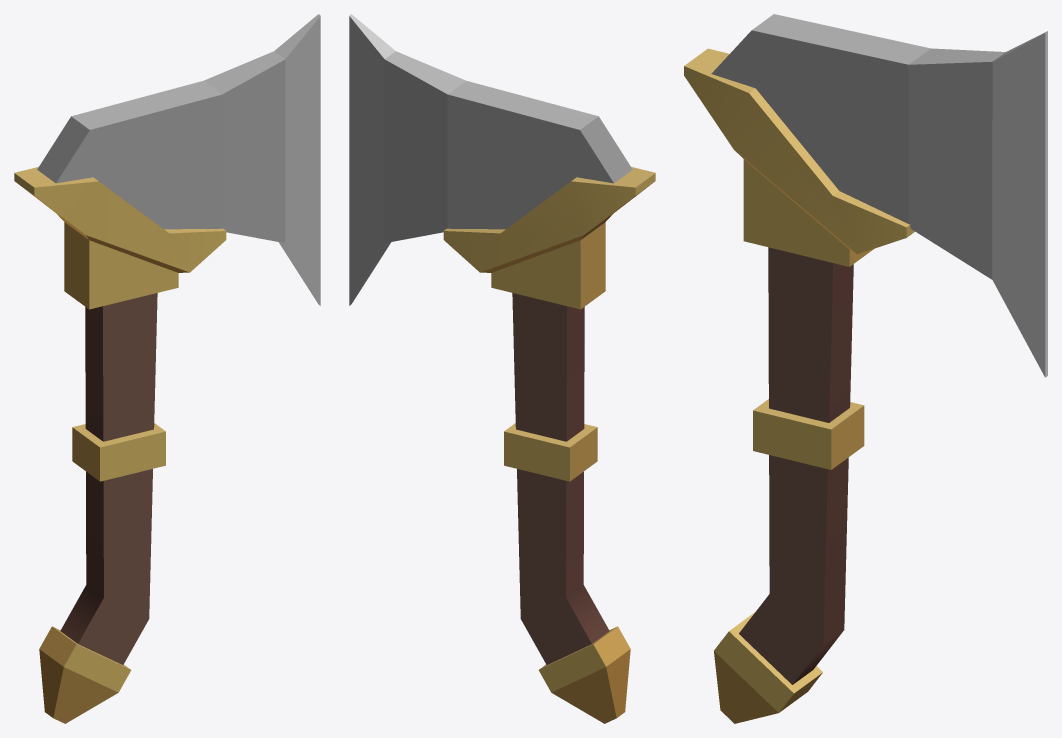
Rendered from SF_Wep_Elven_Axe_01.fbx.
3 views of the same model, side by side, from view 1: azimuth 30°, elevation 25°; view 2: azimuth 150°, elevation 25°; view 3: azimuth 330°, elevation 25° (orthographic). The views are drawn at different scales.
Parts seen in each view (by area): view 1: SF_Wep_Elven_Axe_01; view 2: SF_Wep_Elven_Axe_01; view 3: SF_Wep_Elven_Axe_01.
Boxes of the visible parts, x1,y1,x2,y2 form: SF_Wep_Elven_Axe_01: (14,14,320,723); SF_Wep_Elven_Axe_01: (349,14,655,723); SF_Wep_Elven_Axe_01: (684,14,1047,723).
Bounding box in the file's own units: 0.6708 × 1.4 × 0.1178.
